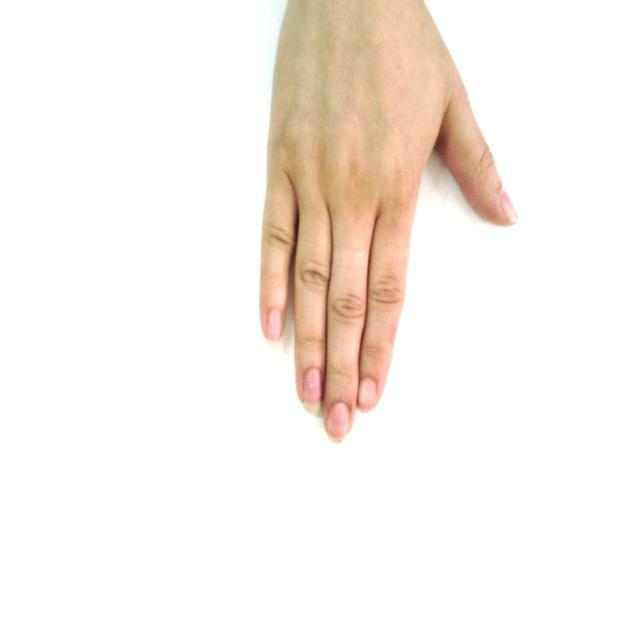Fingernail: (303, 369, 322, 415), (328, 404, 349, 444), (266, 309, 281, 347), (359, 378, 377, 409), (500, 192, 517, 221)
